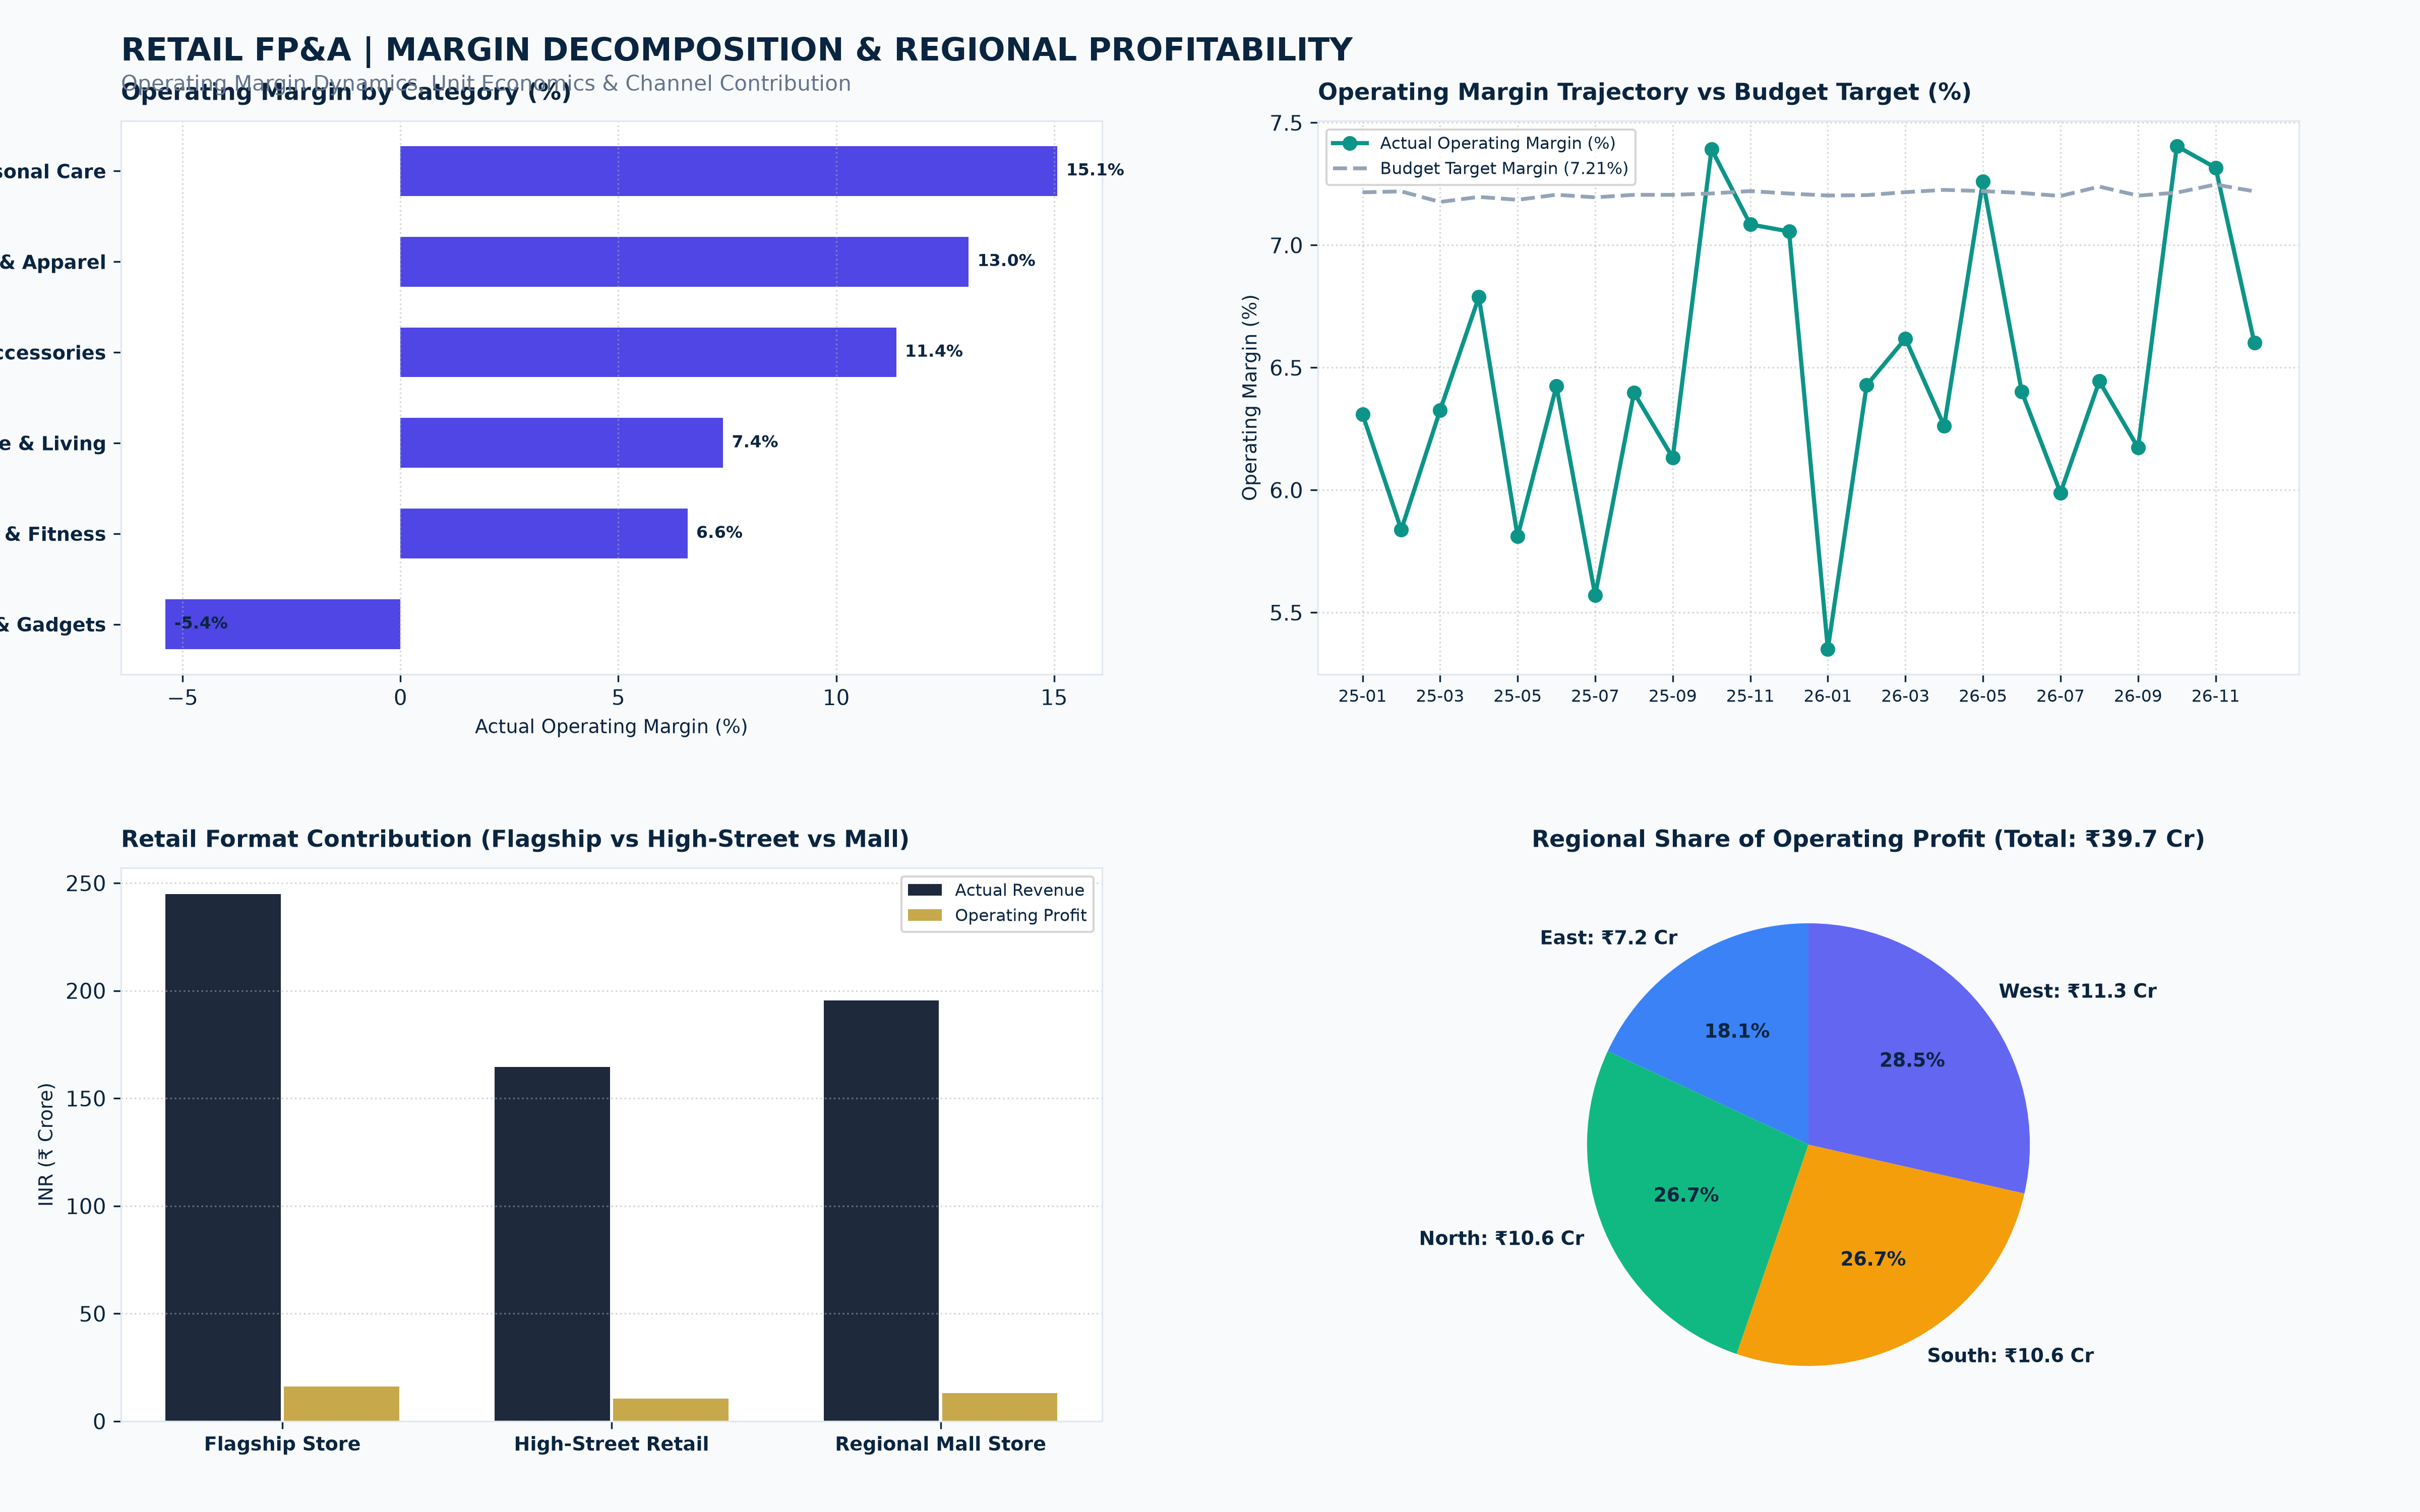

Layout of this report page (visuals, bound fields, positions):
{"tool":"powerbi","page":{"name":"Profitability Analysis","canvas":[1280,720],"ordinal":2},"visuals":[{"type":"unknown","box":[20,20,1240,60]},{"type":"unknown","box":[20,90,400,280]},{"type":"unknown","box":[440,90,820,280]},{"type":"unknown","box":[20,390,1240,300]}]}

Visuals, with their boxes on the page's 1280x720 design canvas (x1, y1, x2, y2). These are canvas units, not pixel positions in the 2420x1512 screenshot, which may show the page scaled, cropped or inside an application window:
unknown: [left=20, top=20, right=1260, bottom=80]
unknown: [left=20, top=90, right=420, bottom=370]
unknown: [left=440, top=90, right=1260, bottom=370]
unknown: [left=20, top=390, right=1260, bottom=690]
